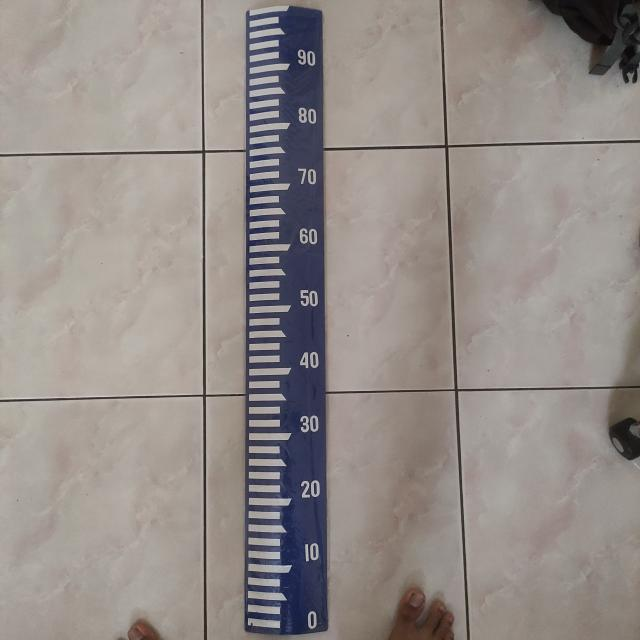10: (301, 542, 321, 564)
20: (300, 477, 322, 499)
30: (300, 414, 320, 434)
40: (300, 350, 322, 370)
50: (298, 288, 321, 310)
60: (297, 224, 321, 247)
70: (296, 162, 321, 188)
80: (296, 104, 318, 126)
90: (295, 47, 318, 67)
staff: (243, 6, 330, 637)
